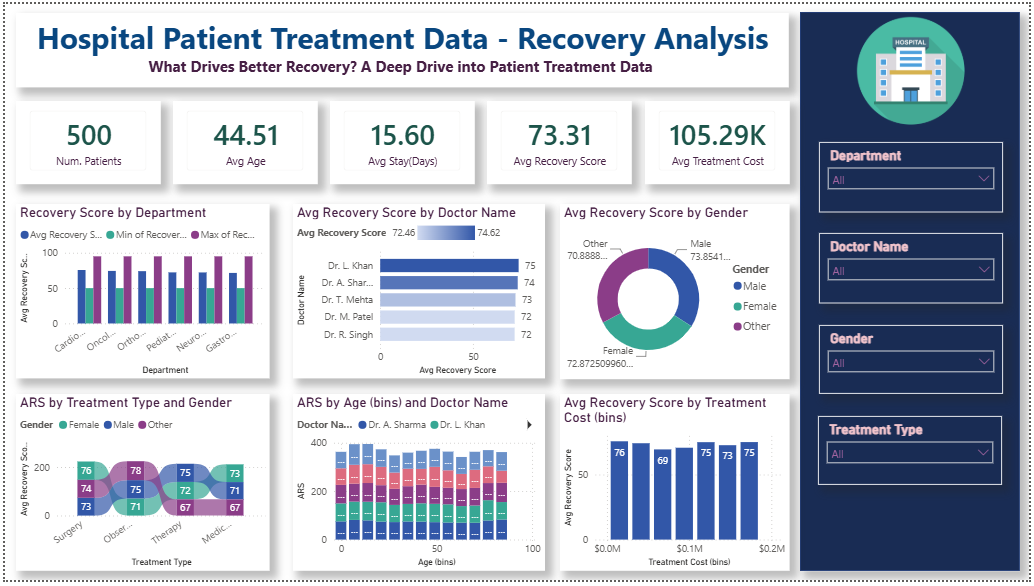

The dashboard page shown, as its layout file describes it:
{"tool":"powerbi","page":{"name":"Page 1","canvas":[1280,720],"ordinal":0},"visuals":[{"type":"textbox","box":[13.8,10.7,966.5,93.3],"z":0},{"type":"shape","box":[994,10.4,274.6,698.5],"z":1000},{"type":"image","box":[1048.3,10,166.7,146.7],"z":2000},{"type":"cardVisual","fields":{"Data":["Sum(Measure Tables.Num. Patients)"]},"box":[13.4,120.9,180.6,104.5],"z":3000},{"type":"cardVisual","fields":{"Data":["Measure Tables.Avg Age"]},"box":[210.4,120.9,180.6,104.5],"z":4000},{"type":"cardVisual","fields":{"Data":["Measure Tables.Avg Stay"]},"box":[406,120.9,180.6,104.5],"z":5000},{"type":"cardVisual","fields":{"Data":["Avg(HospitalData.Recovery Score)"]},"box":[603,120.9,180.6,104.5],"z":6000},{"type":"cardVisual","fields":{"Data":["Avg(HospitalData.Treatment Cost)"]},"box":[800,120.9,180.6,104.5],"z":7000},{"type":"slicer","fields":{"Values":["HospitalData.Department"]},"box":[1017.9,173.1,229.7,88.2],"z":8000},{"type":"slicer","fields":{"Values":["HospitalData.Doctor Name"]},"box":[1017.5,286.2,230,87.5],"z":9000},{"type":"slicer","fields":{"Values":["HospitalData.Gender"]},"box":[1017.5,401.2,230,86.2],"z":10000},{"type":"slicer","fields":{"Values":["HospitalData.Treatment Type"]},"box":[1016.7,514.4,230,85.6],"z":11000},{"type":"clusteredColumnChart","title":"Recovery Score by Department","fields":{"Category":["HospitalData.Department"],"Y":["Measure Tables.Avg Recovery Score","Min(HospitalData.Recovery Score)","Max(HospitalData.Recovery Score)"]},"box":[13.3,250,316.7,218.3],"z":12000},{"type":"clusteredBarChart","fields":{"Category":["HospitalData.Doctor Name"],"Y":["Measure Tables.Avg Recovery Score"]},"box":[360,250,315,218.3],"z":13000},{"type":"donutChart","fields":{"Category":["HospitalData.Gender"],"Y":["Measure Tables.Avg Recovery Score"]},"box":[693.8,250.5,286.6,218.6],"z":14000},{"type":"ribbonChart","title":"ARS by Treatment Type and Gender","fields":{"Category":["HospitalData.Treatment Type"],"Y":["Measure Tables.Avg Recovery Score"],"Series":["HospitalData.Gender"]},"box":[13.6,487.7,317.3,221],"z":15000},{"type":"columnChart","fields":{"Category":["HospitalData.Age (bins)"],"Y":["Measure Tables.Avg Recovery Score"],"Series":["HospitalData.Doctor Name"]},"box":[360,488,315,221],"z":16000},{"type":"columnChart","fields":{"Category":["HospitalData.Treatment Cost (bins)"],"Y":["Measure Tables.Avg Recovery Score"]},"box":[694,488,287,221],"z":17000}]}

Visuals, with their boxes in screenshot pixels (x1, y1, x2, y2), scaled from the page's 1280x720 canvas onto the 1034x586 screenshot:
textbox: 11/9/792/85
shape: 803/8/1025/577
image: 847/8/981/128
cardVisual - Sum(Measure Tables.Num. Patients): 11/98/157/183
cardVisual - Measure Tables.Avg Age: 170/98/316/183
cardVisual - Measure Tables.Avg Stay: 328/98/474/183
cardVisual - Avg(HospitalData.Recovery Score): 487/98/633/183
cardVisual - Avg(HospitalData.Treatment Cost): 646/98/792/183
slicer - HospitalData.Department: 822/141/1008/213
slicer - HospitalData.Doctor Name: 822/233/1008/304
slicer - HospitalData.Gender: 822/327/1008/397
slicer - HospitalData.Treatment Type: 821/419/1007/488
"Recovery Score by Department" clusteredColumnChart: 11/203/267/381
clusteredBarChart - HospitalData.Doctor Name x Measure Tables.Avg Recovery Score: 291/203/545/381
donutChart - HospitalData.Gender x Measure Tables.Avg Recovery Score: 560/204/792/382
"ARS by Treatment Type and Gender" ribbonChart: 11/397/267/577
columnChart - HospitalData.Age (bins) x Measure Tables.Avg Recovery Score: 291/397/545/577
columnChart - HospitalData.Treatment Cost (bins) x Measure Tables.Avg Recovery Score: 561/397/792/577
